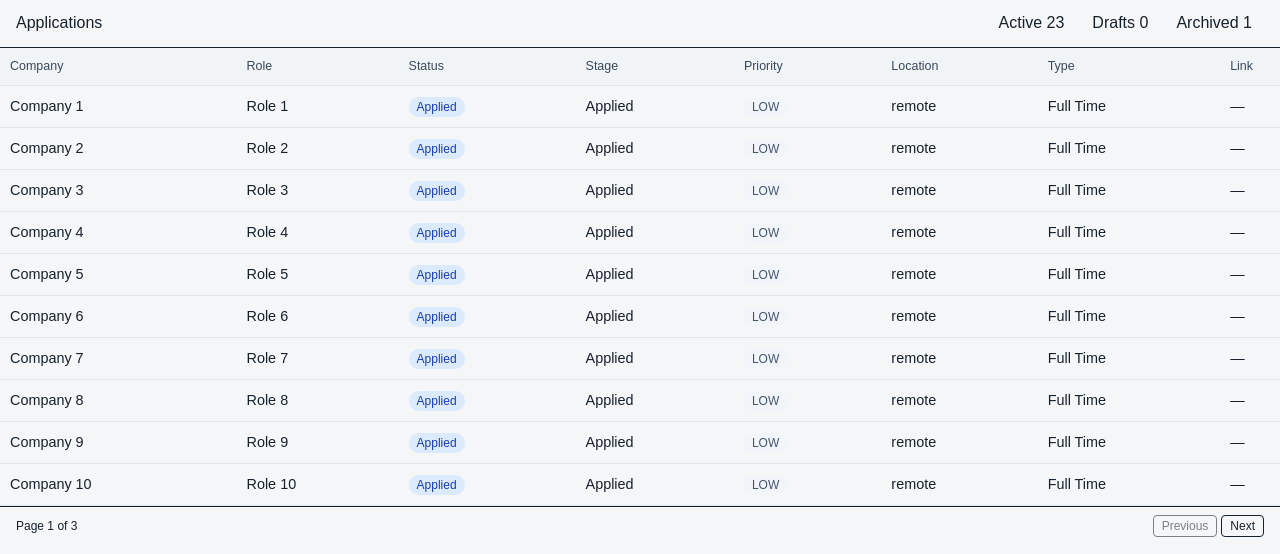
Test case: ApplicationsTable › Next advances to the following page of rows
This screenshot has width=1280, height=554.
Click the button "Next". click: x=1243, y=526
box: [1221,515,1264,537]
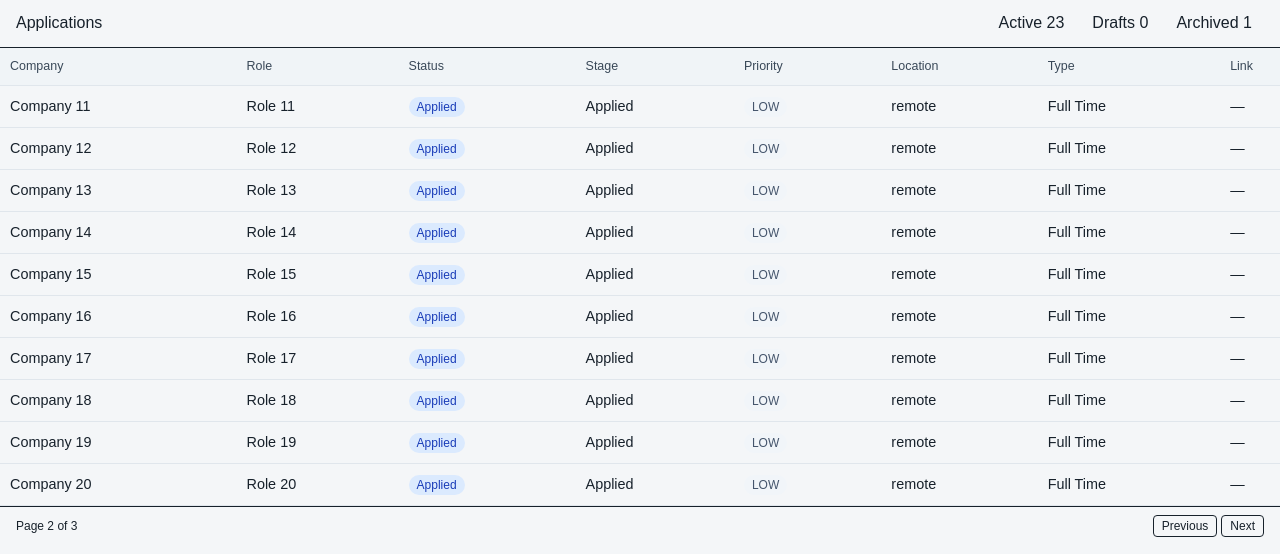
Check: the text "Company 11" is shown, box [10,98,90,114]
Check: the text "Page 2 of 3" is shown, box [16,518,77,534]
